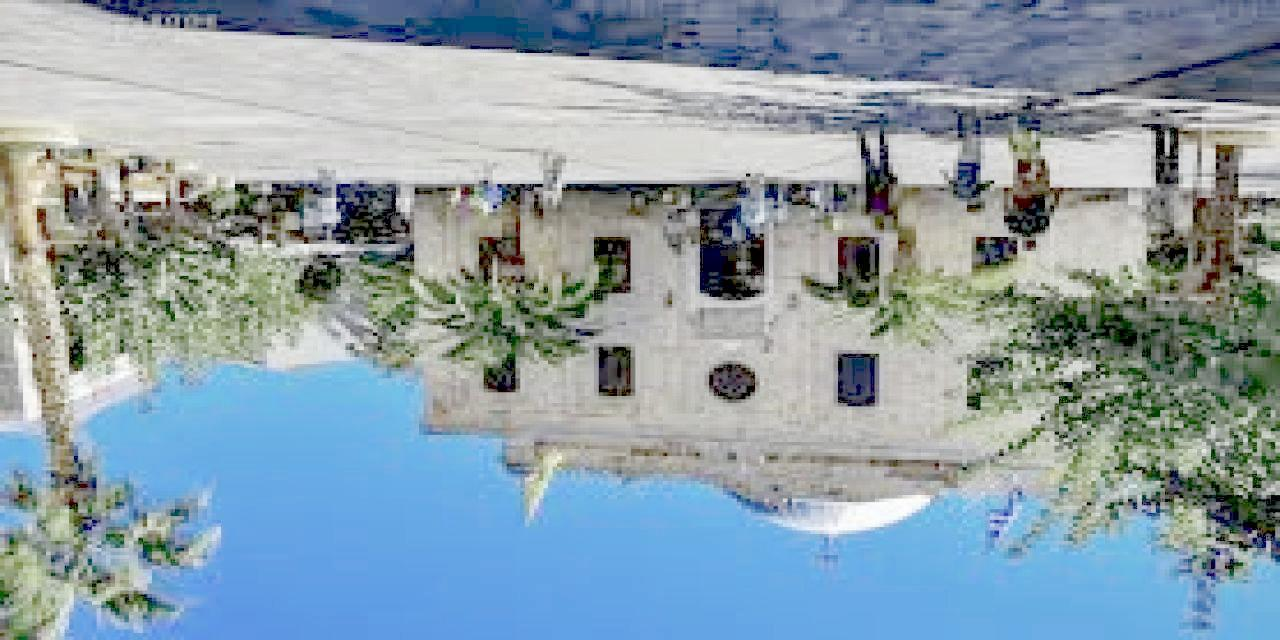Agios Titos: (423, 201, 1135, 536)
